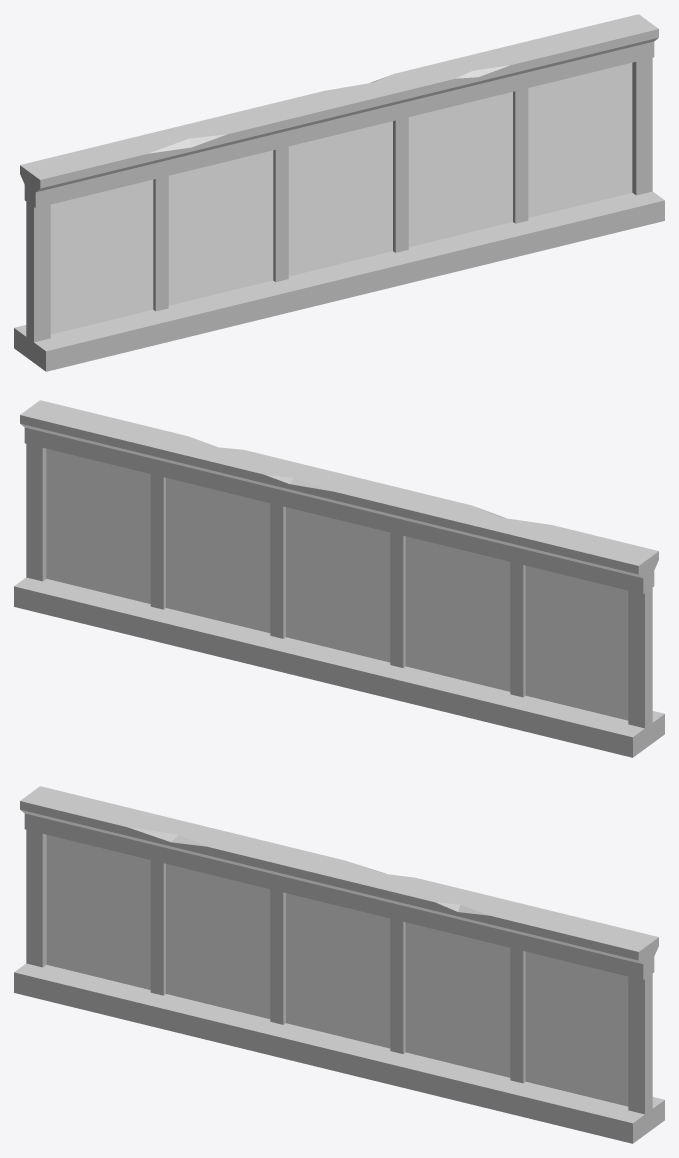
Rendered from SM_Bld_Wall_Balcony_01.glb.
3 renders of one model, top to bottom at view 1: azimuth 30°, elevation 25°; view 2: azimuth 150°, elevation 25°; view 3: azimuth 330°, elevation 25°, orthographic.
Visible parts, largest first — view 1: SM_Bld_Wall_Balcony_01; view 2: SM_Bld_Wall_Balcony_01; view 3: SM_Bld_Wall_Balcony_01.
Boxes of the visible parts, bbox=[...] form: SM_Bld_Wall_Balcony_01: bbox=[14, 14, 664, 371]; SM_Bld_Wall_Balcony_01: bbox=[14, 400, 664, 757]; SM_Bld_Wall_Balcony_01: bbox=[14, 786, 664, 1143].
Size of the model in its own units: 2.5 by 0.7239 by 0.225.
2 materials, 1 textured.
